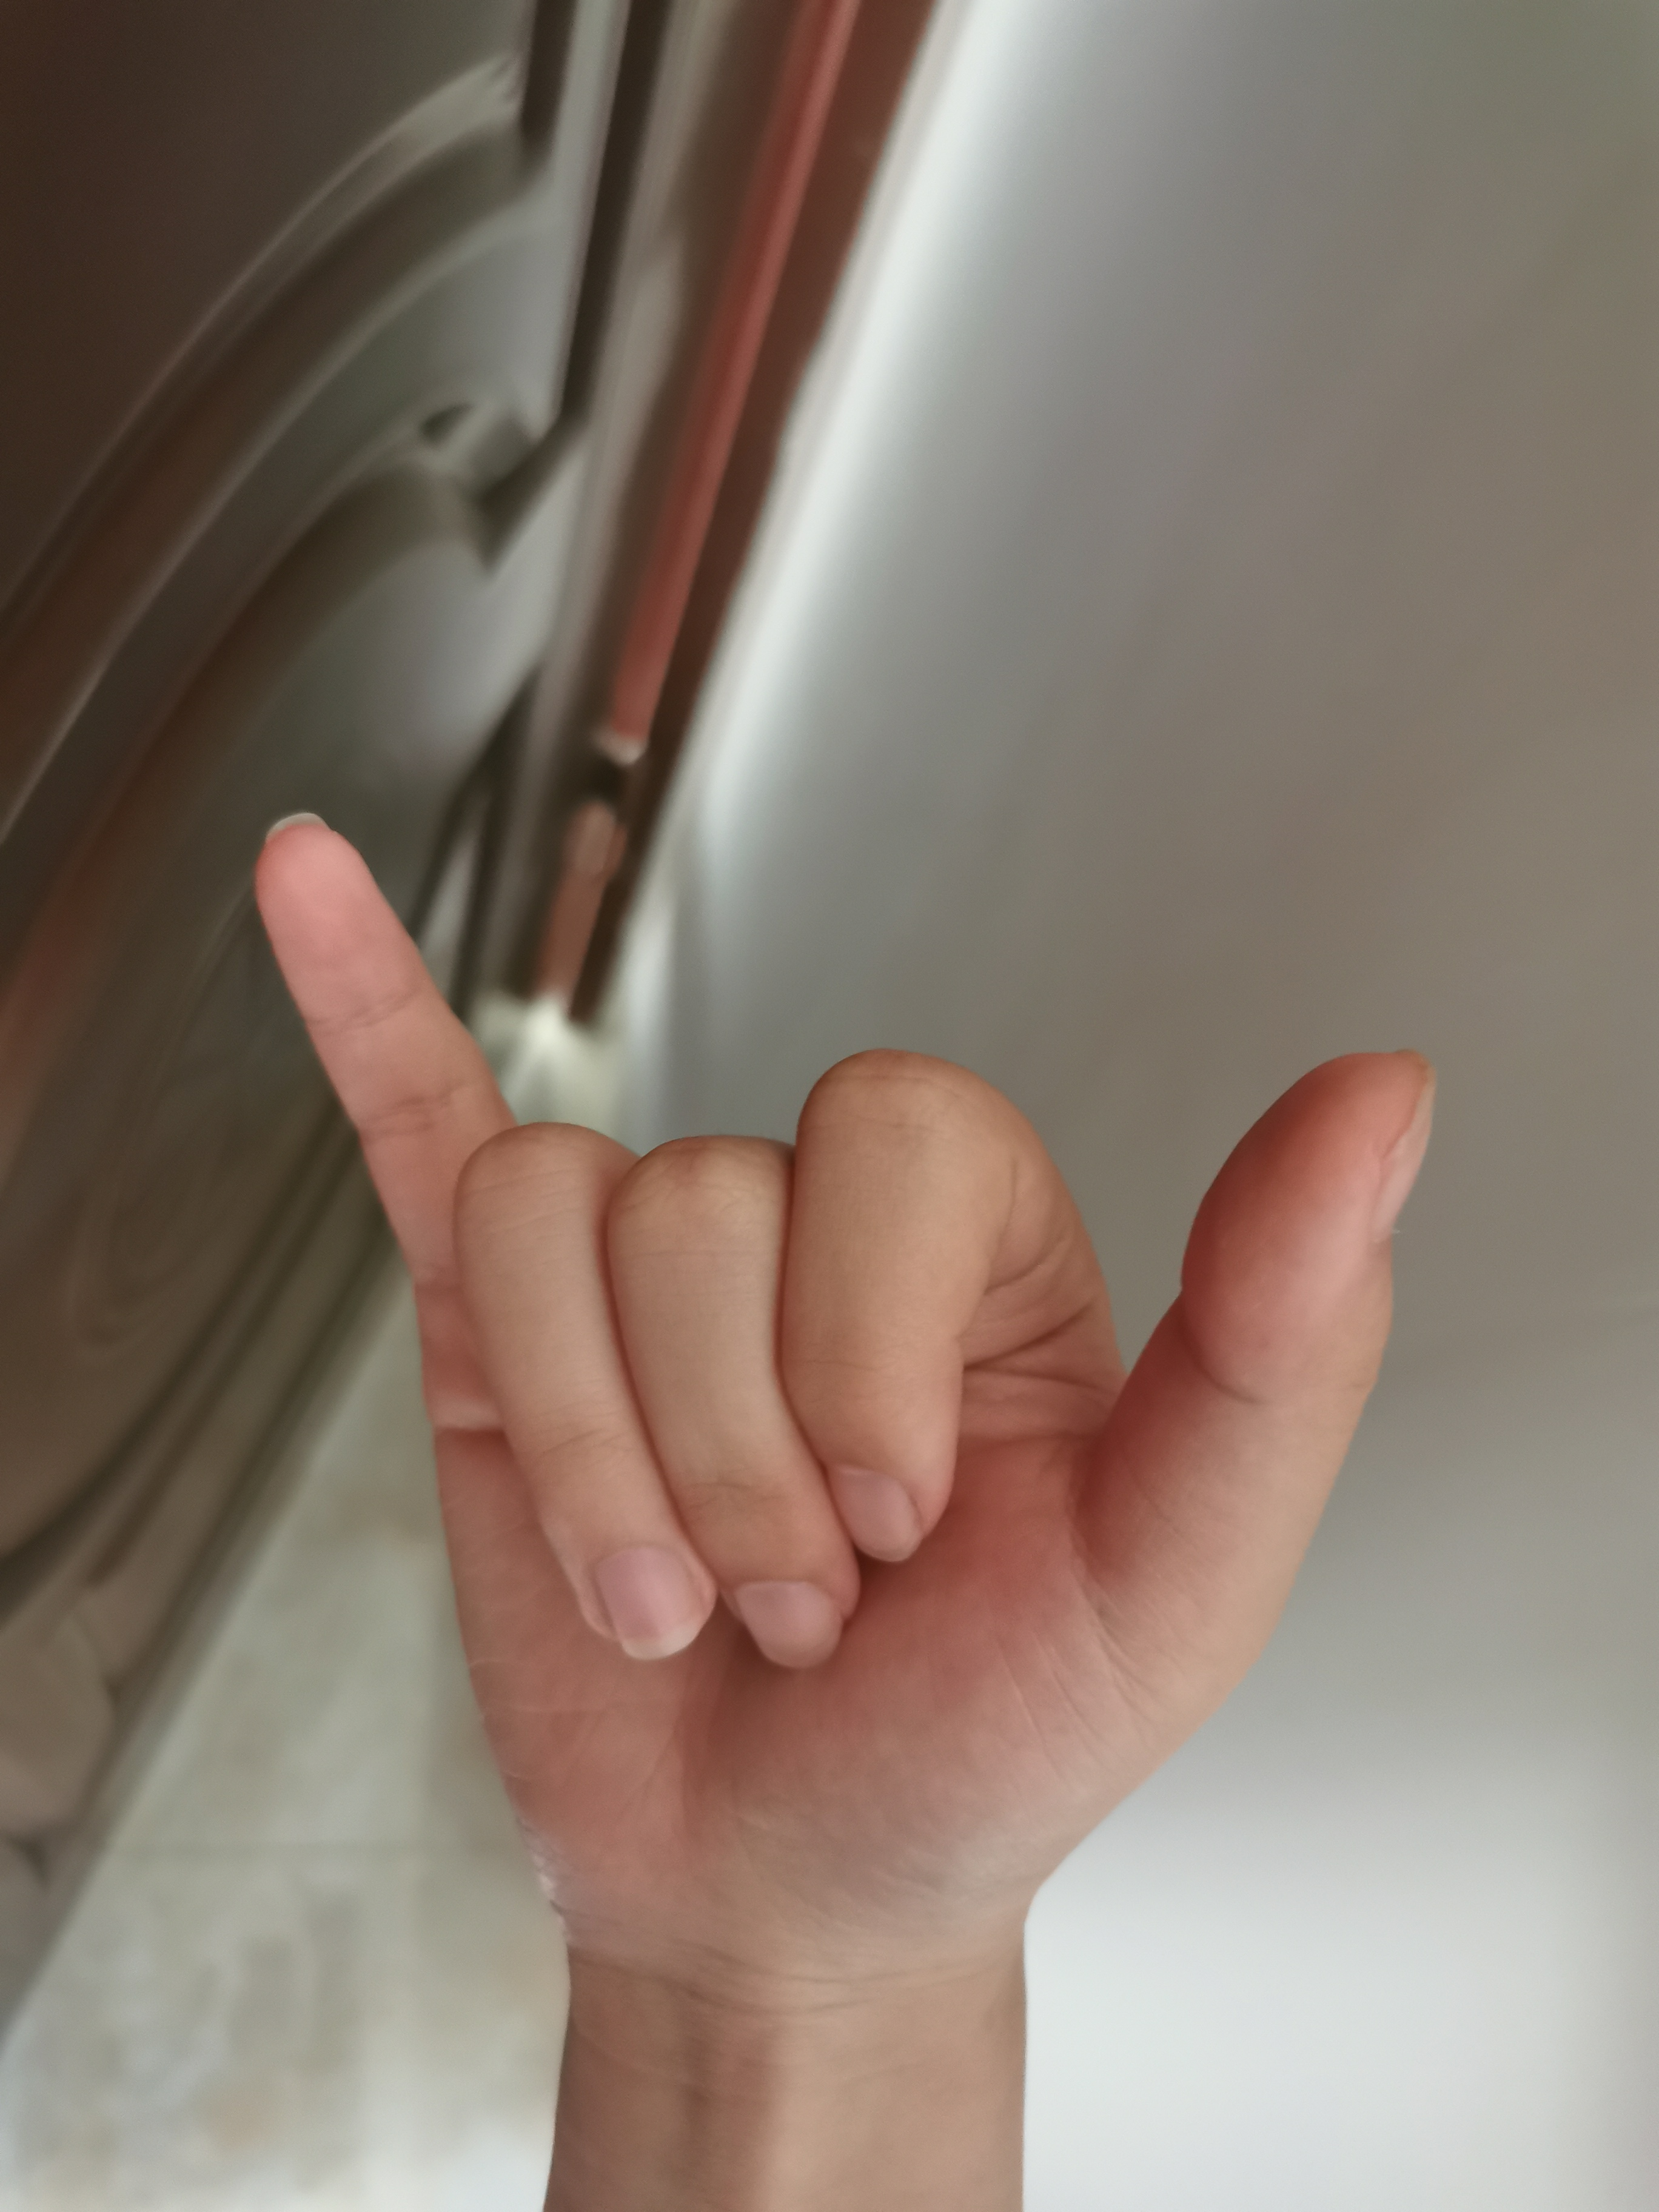clockwise: (213, 803, 1452, 1991)
